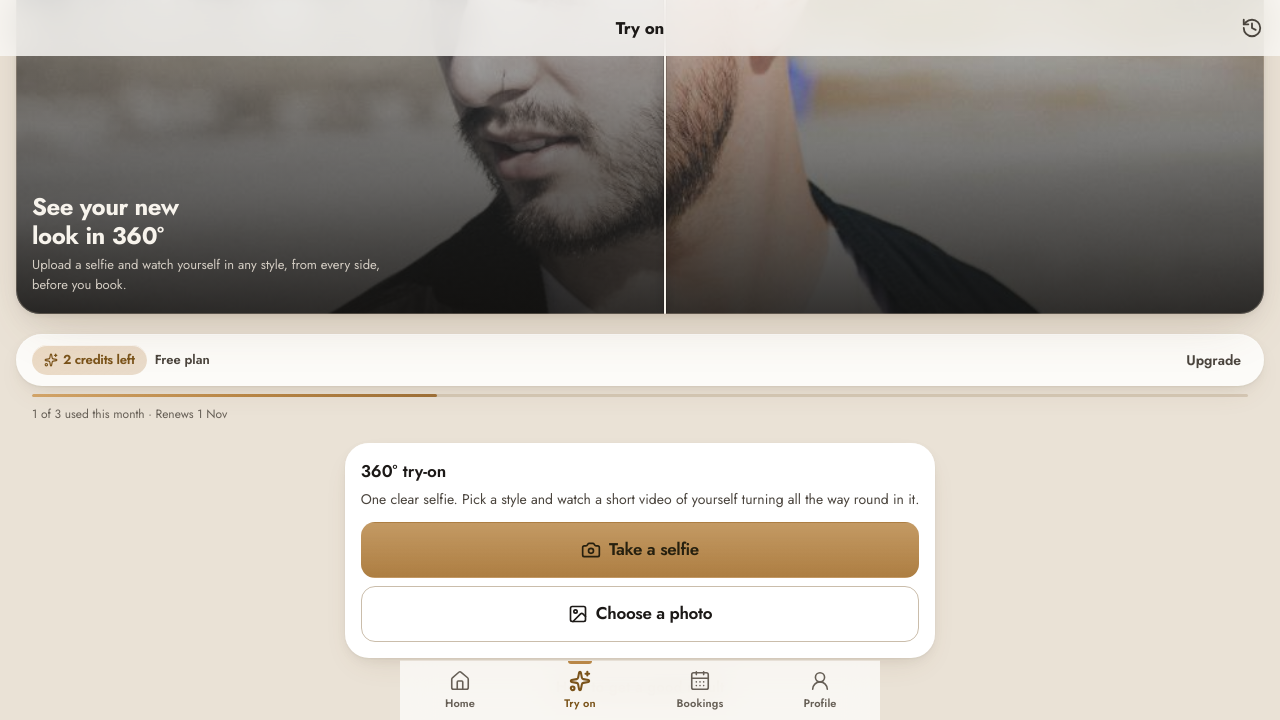
Test case: try-on home › shows the plan and this month’s credits from the backend
The image size is (1280, 720).
(page scrolled)
Expected: the text "2 credits left" is shown, [32,345,147,375]
Expected: the text "Free plan" is shown, [155,350,210,370]
What coordinates should you click on to do the following:
click the button "Upgrade"
I would click on:
 (1214, 360)
Its box is [1171,338,1256,382].
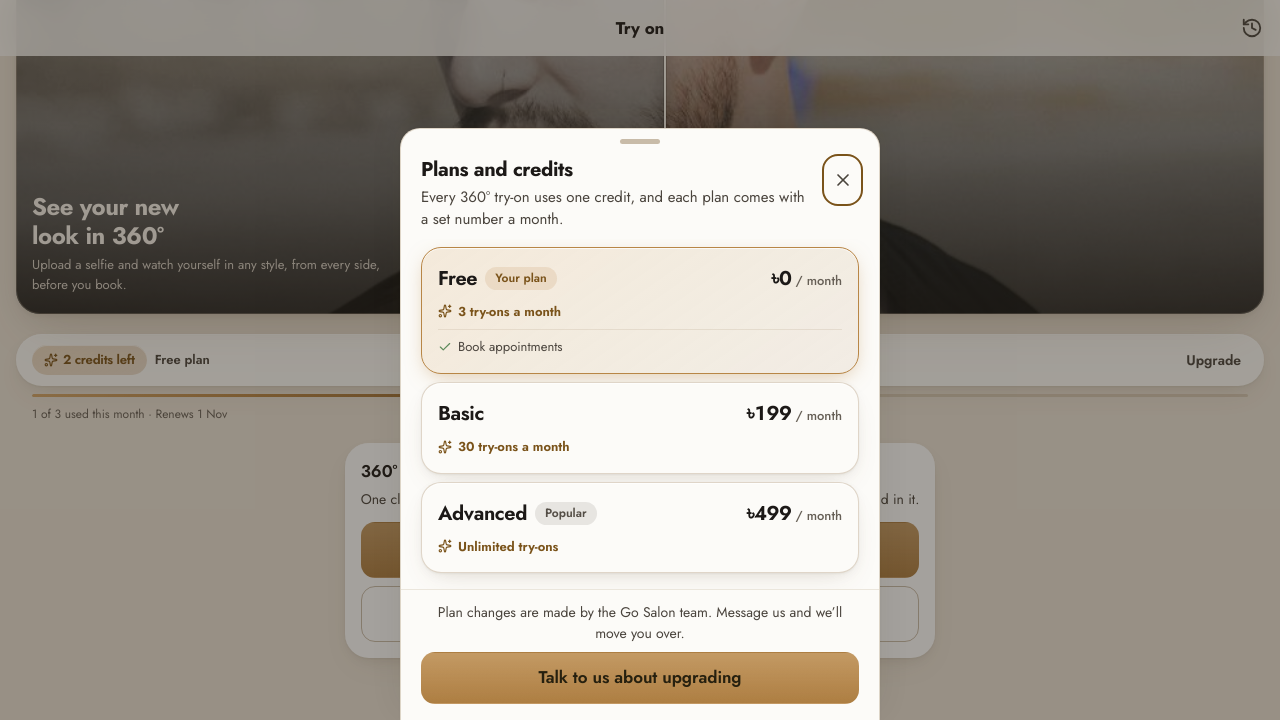
Expected: the heading "Plans and credits" is shown, [421,155,573,184]
Expected: the text "Basic" is shown, [438,399,484,429]
